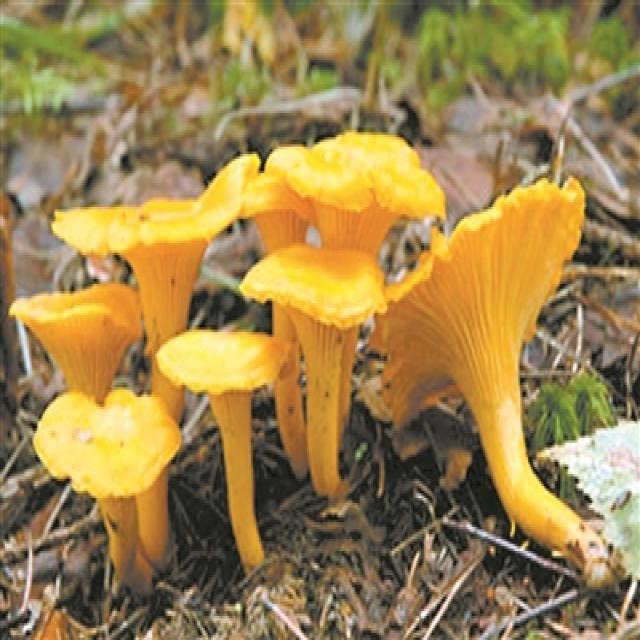Cantharellus cibarius: (376, 179, 620, 580), (51, 154, 259, 335), (240, 242, 377, 498), (157, 327, 285, 565), (37, 385, 181, 593), (280, 131, 446, 252), (10, 285, 144, 388)
